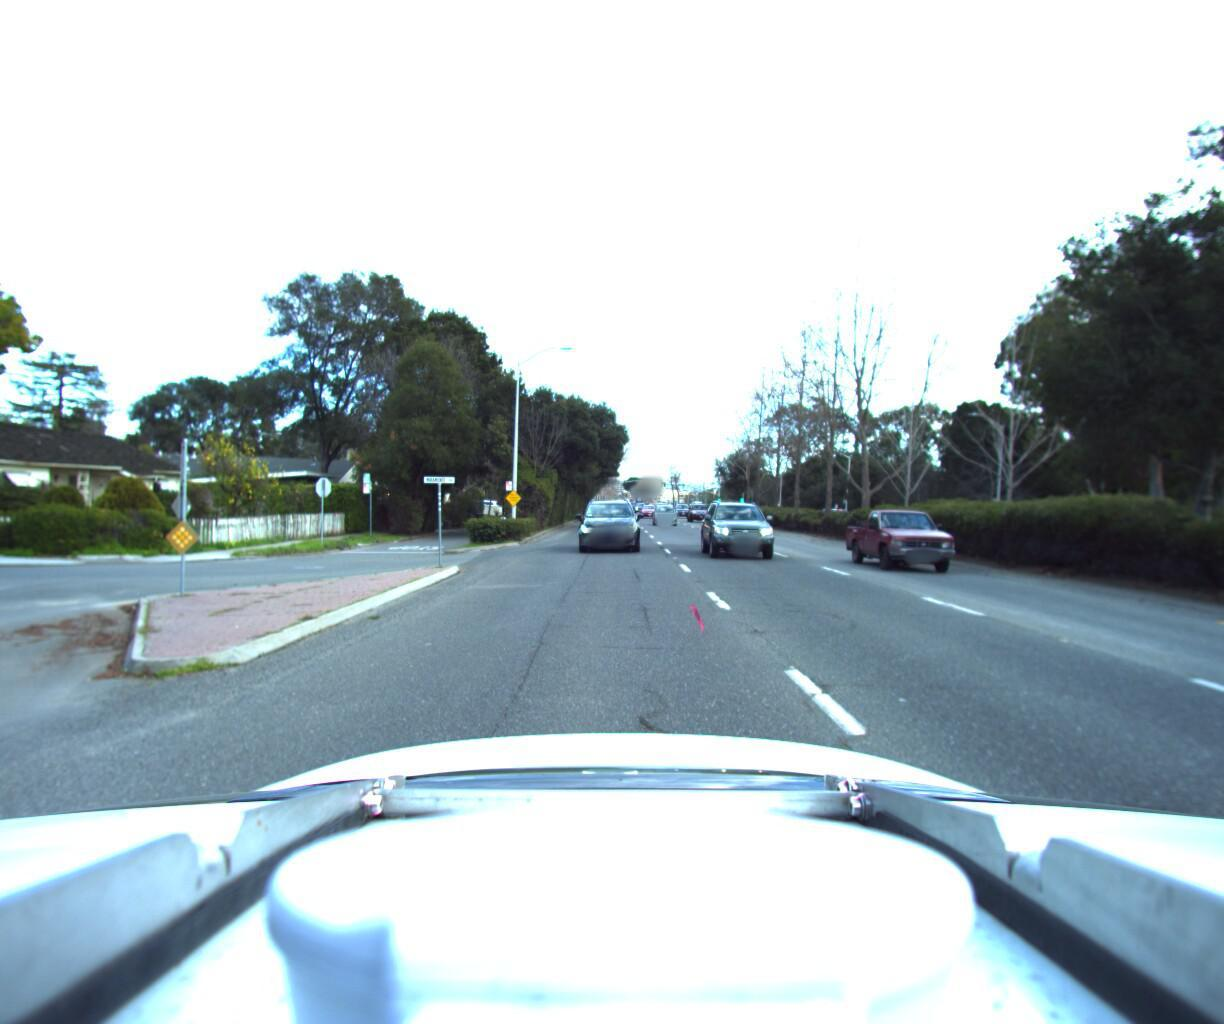car: (849, 498, 989, 574), (699, 493, 782, 563), (577, 490, 642, 551), (651, 495, 682, 519), (684, 492, 713, 516), (635, 499, 655, 517)
